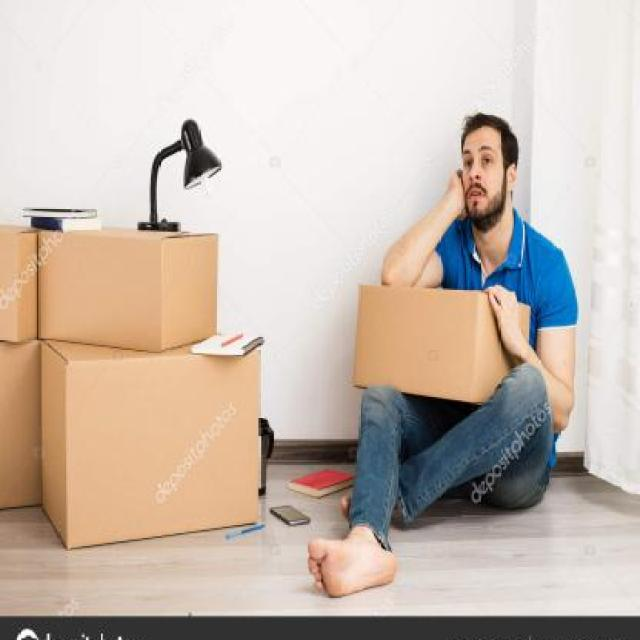box: (27, 316, 268, 557), (324, 266, 544, 450), (37, 208, 249, 356)
